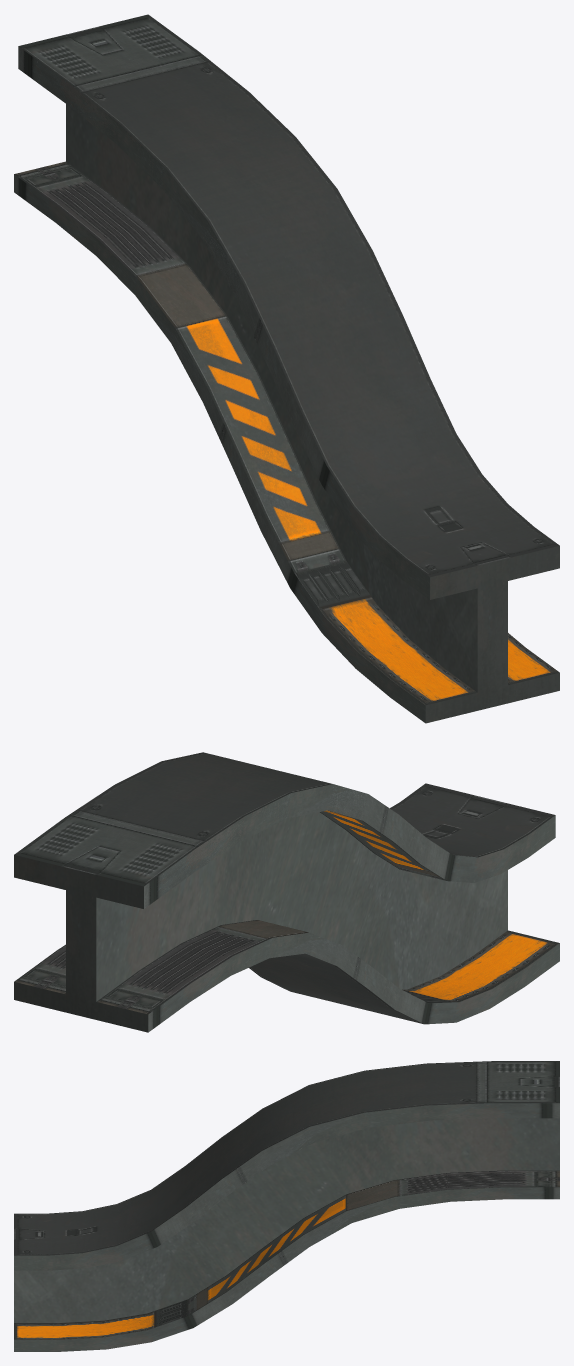
The model's file is balk_s_l.FBX.
3 views of the same model, one above another, from view 1: azimuth 30°, elevation 25°; view 2: azimuth 150°, elevation 25°; view 3: azimuth 270°, elevation 25° (orthographic). The views are drawn at different scales.
Visible parts, largest first — view 1: balk_s_l; view 2: balk_s_l; view 3: balk_s_l.
Boxes of the visible parts, x1=… form: balk_s_l: x1=14, y1=14, x2=559, y2=723; balk_s_l: x1=14, y1=752, x2=559, y2=1032; balk_s_l: x1=14, y1=1061, x2=559, y2=1351.
Size of the model in its own units: 3.1 by 16.46 by 8.27.
